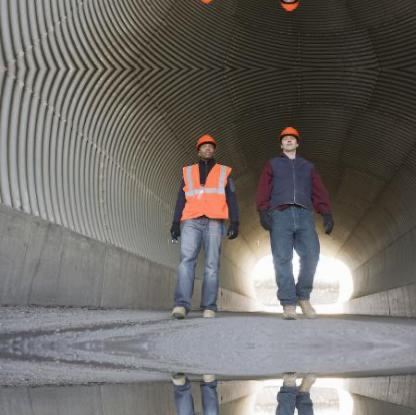Safety Helmet: (276, 123, 303, 161), (192, 130, 219, 165)
